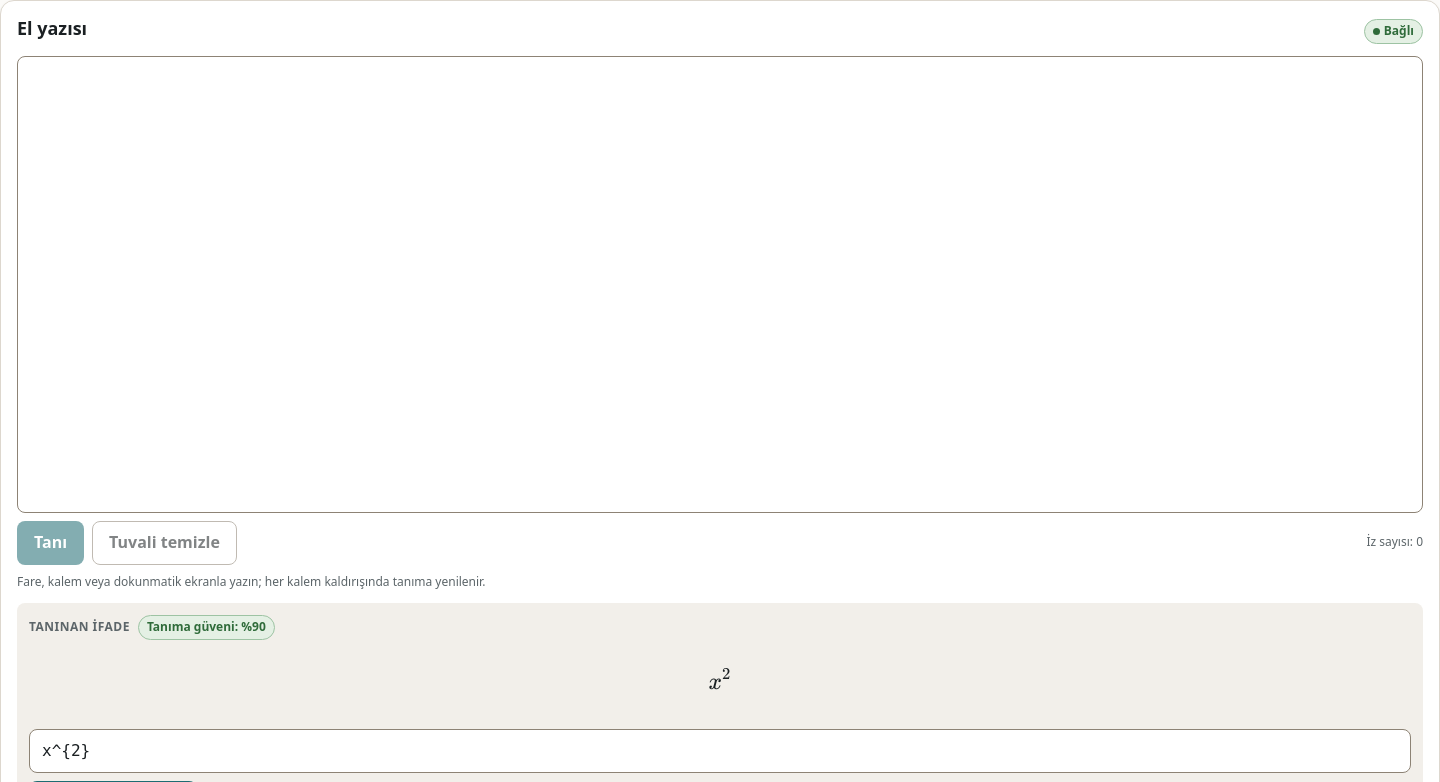
Scenario: InkPanel › clears the reading with the canvas
This screenshot has width=1440, height=782.
Press the mouse on the picture with test id "ink-canvas" at (720, 284), box [17, 56, 1423, 513]
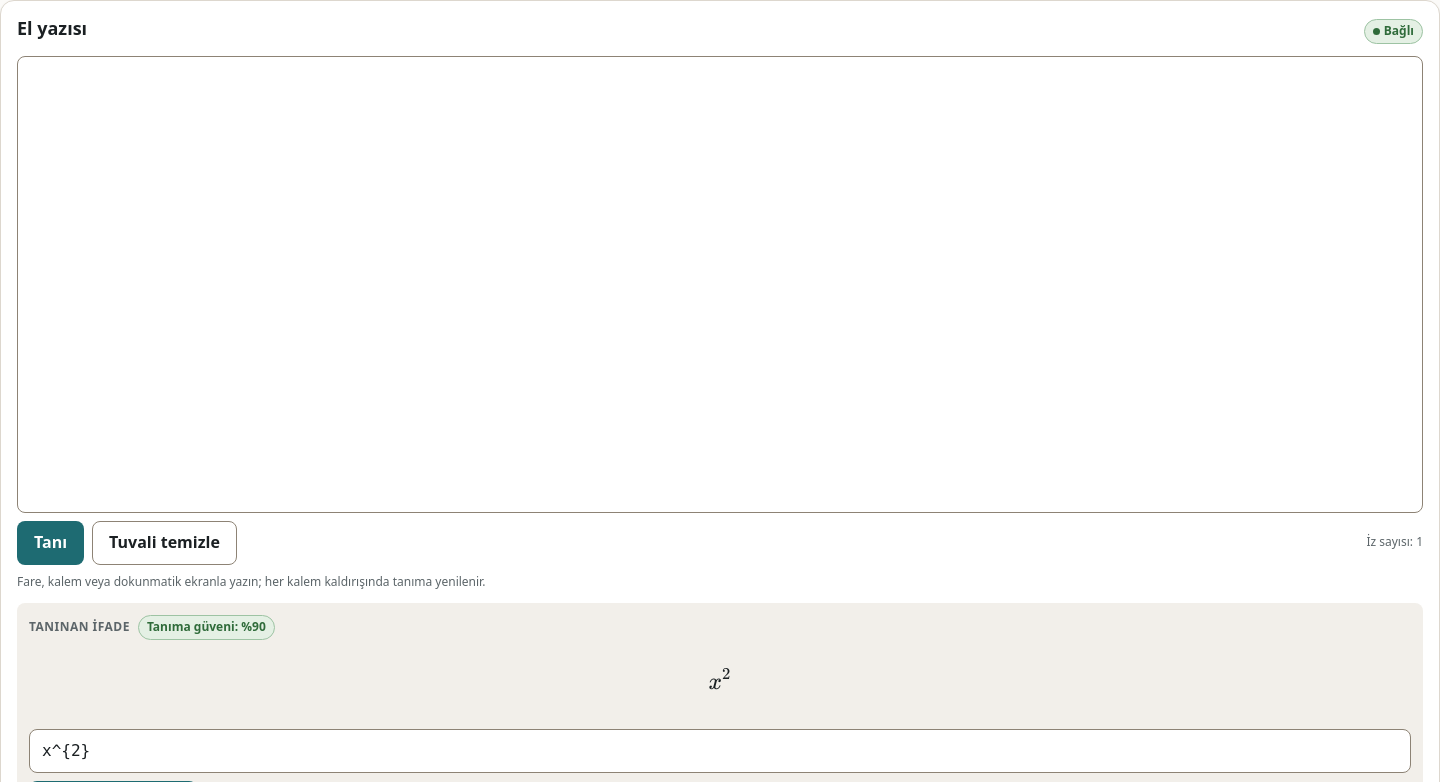
Click the button "Tuvali temizle" at (164, 543), box [92, 521, 237, 565]
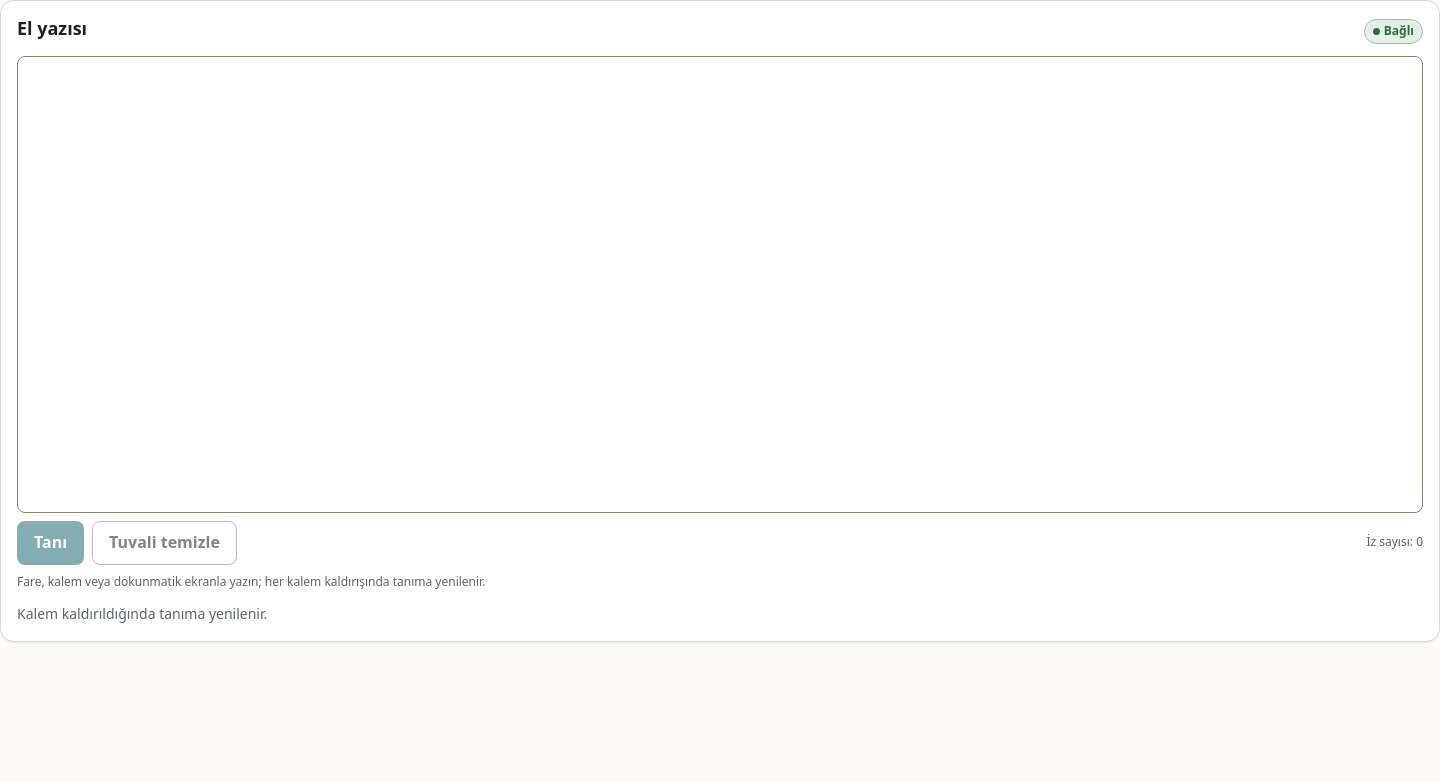
Expected: the text "Kalem kaldırıldığında tanıma yenilenir." is shown, [17, 604, 267, 623]
